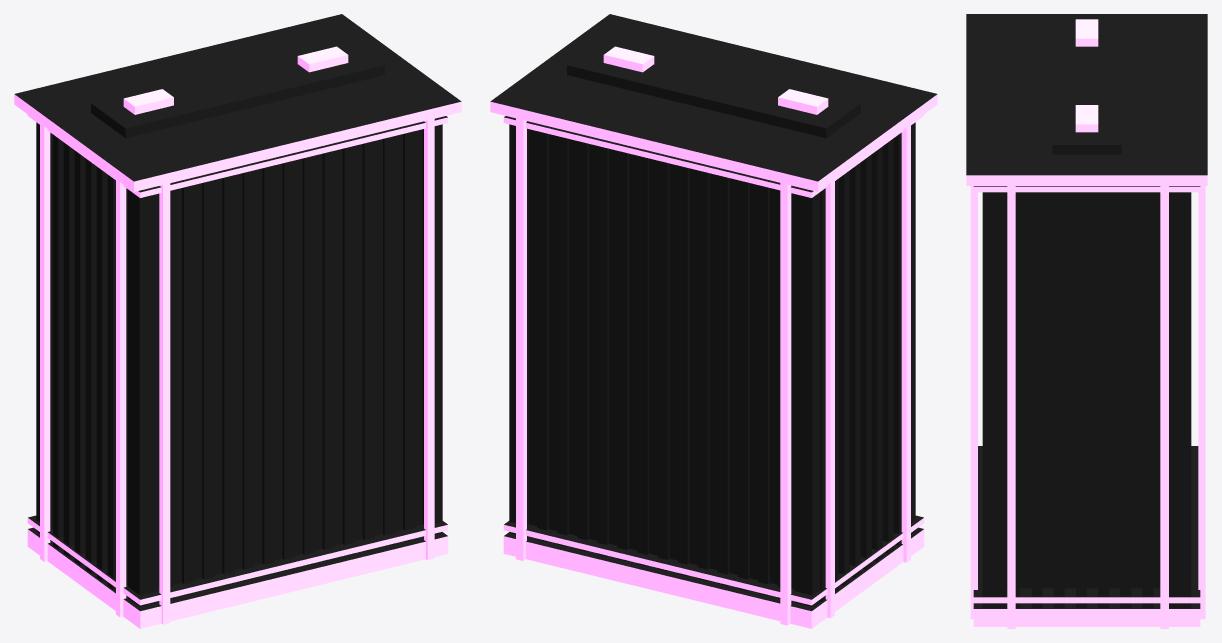
3 renders of one model, left to right at view 1: azimuth 30°, elevation 25°; view 2: azimuth 150°, elevation 25°; view 3: azimuth 270°, elevation 25°, orthographic.
Visible parts, largest first — view 1: Box014; view 2: Box014; view 3: Box014.
Part boxes in pixels (x1=…): Box014: x1=14, y1=14, x2=461, y2=628; Box014: x1=490, y1=14, x2=937, y2=628; Box014: x1=966, y1=14, x2=1207, y2=628.
Size of the model in its own units: 966 by 1335 by 611.
